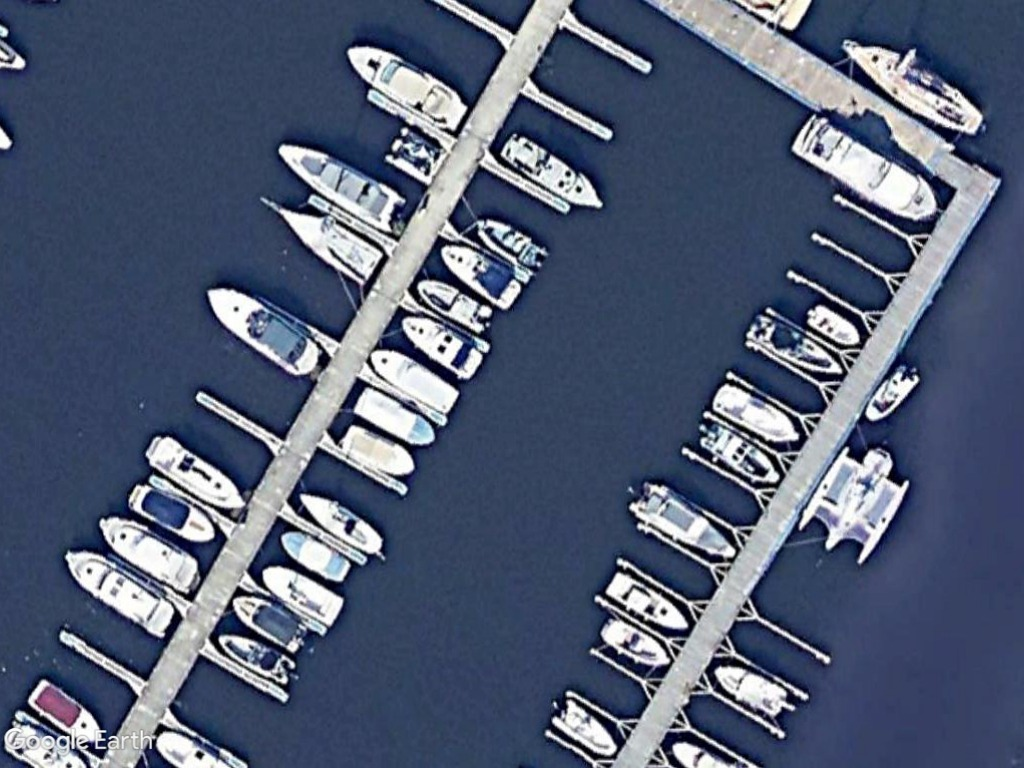boat: (787, 110, 942, 227), (837, 34, 990, 137), (273, 139, 409, 237), (253, 190, 386, 287), (342, 44, 474, 135), (203, 284, 324, 380), (61, 546, 177, 639), (499, 130, 610, 216), (143, 430, 249, 516), (626, 483, 739, 563), (96, 512, 204, 595), (742, 308, 846, 379), (366, 346, 463, 418), (292, 487, 387, 557), (707, 379, 802, 448), (695, 417, 787, 488), (435, 241, 526, 312), (601, 566, 693, 636), (123, 481, 218, 546), (350, 382, 439, 451), (260, 561, 348, 630), (24, 675, 105, 749), (399, 313, 485, 380), (210, 626, 300, 687), (227, 594, 312, 653), (338, 420, 417, 482), (412, 276, 496, 333), (546, 696, 621, 759), (709, 662, 791, 719), (472, 213, 547, 274), (598, 609, 674, 667), (277, 529, 354, 585), (861, 362, 923, 424), (803, 299, 864, 350)
